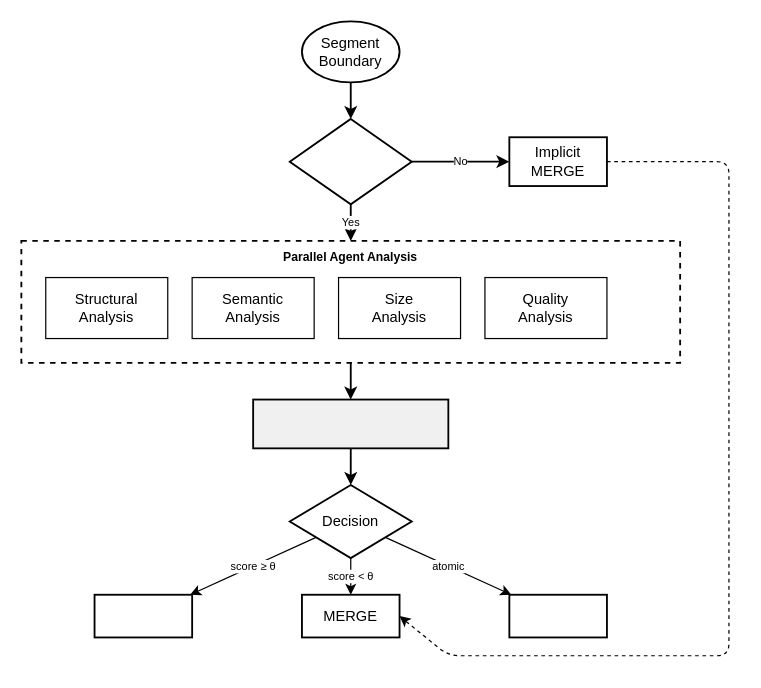
Image size: 761x688. Some labels were removed from this diagram. Here are the shapes that lost their labels. From the top down, the box of each, then its label:
(288, 117, 412, 205): Check Required?
(252, 398, 449, 449): Weighted Consensus
(93, 593, 193, 638): SPLIT
(508, 593, 607, 638): PRESERVE
